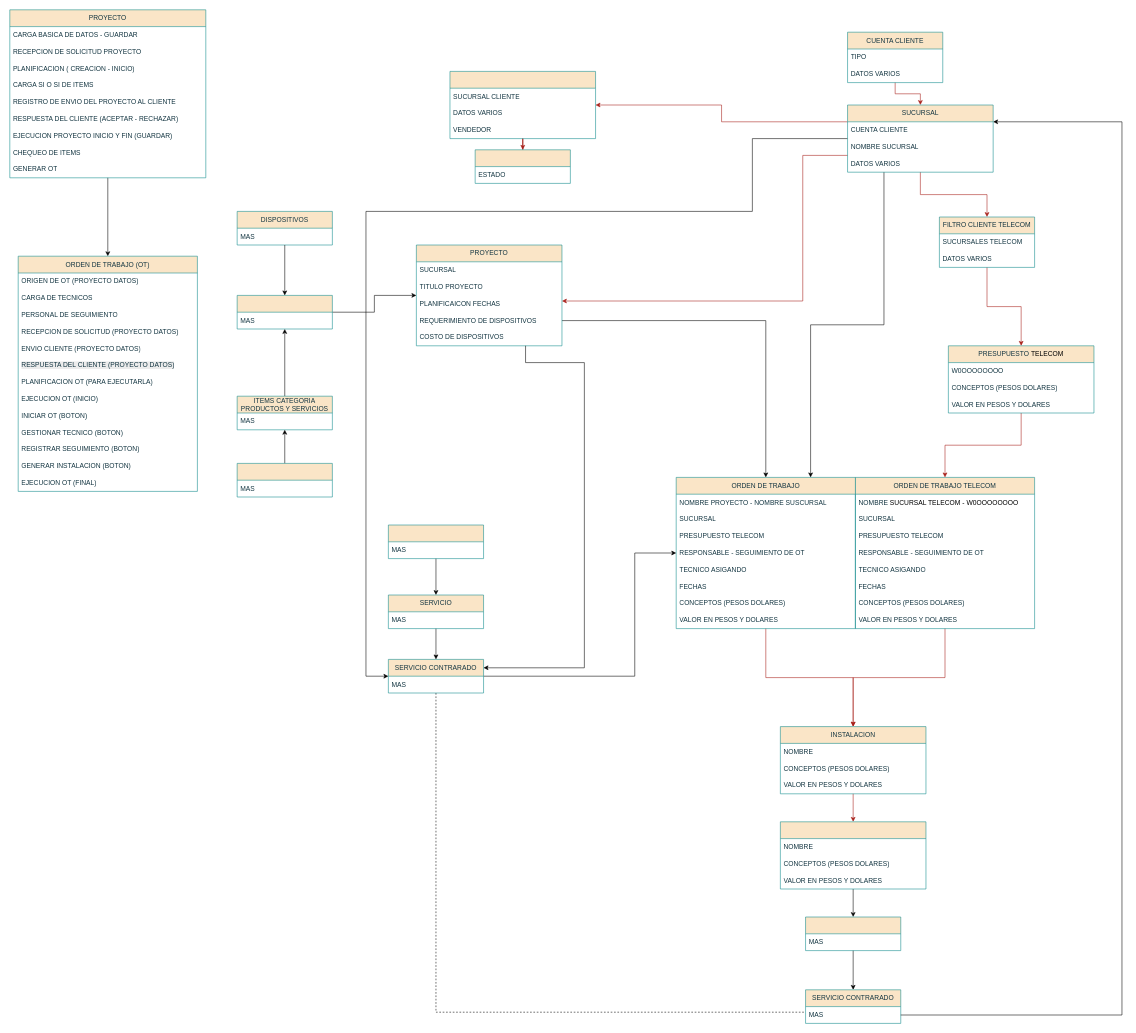
Image size: 1136x1033. Some labels were removed from this diagram. Here are the shapes that lost their labels. From the top down, the box of each, then its label:
(449, 71, 596, 139): PRESUPUESTO
(475, 149, 570, 183): CLIENTE ACEPTA
(237, 295, 332, 329): PROYECTO DETALLES
(237, 463, 332, 497): CATERGORIA CATALOGO
(388, 524, 484, 559): CATEGORIA SERVICIO
(780, 821, 926, 889): INSTALACION DISPOSITIVOS
(805, 916, 901, 951): INSTALACION TECNICO
